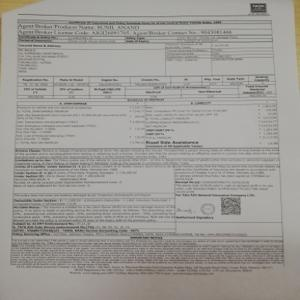table: (18, 19, 276, 98), (15, 100, 279, 150)
text: (8, 239, 284, 277)
